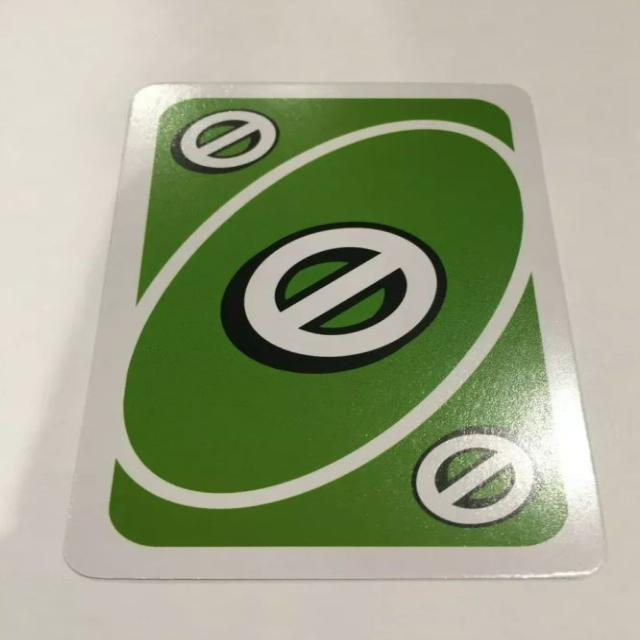Green_Card: (101, 90, 575, 552)
Skip: (170, 98, 284, 178)
